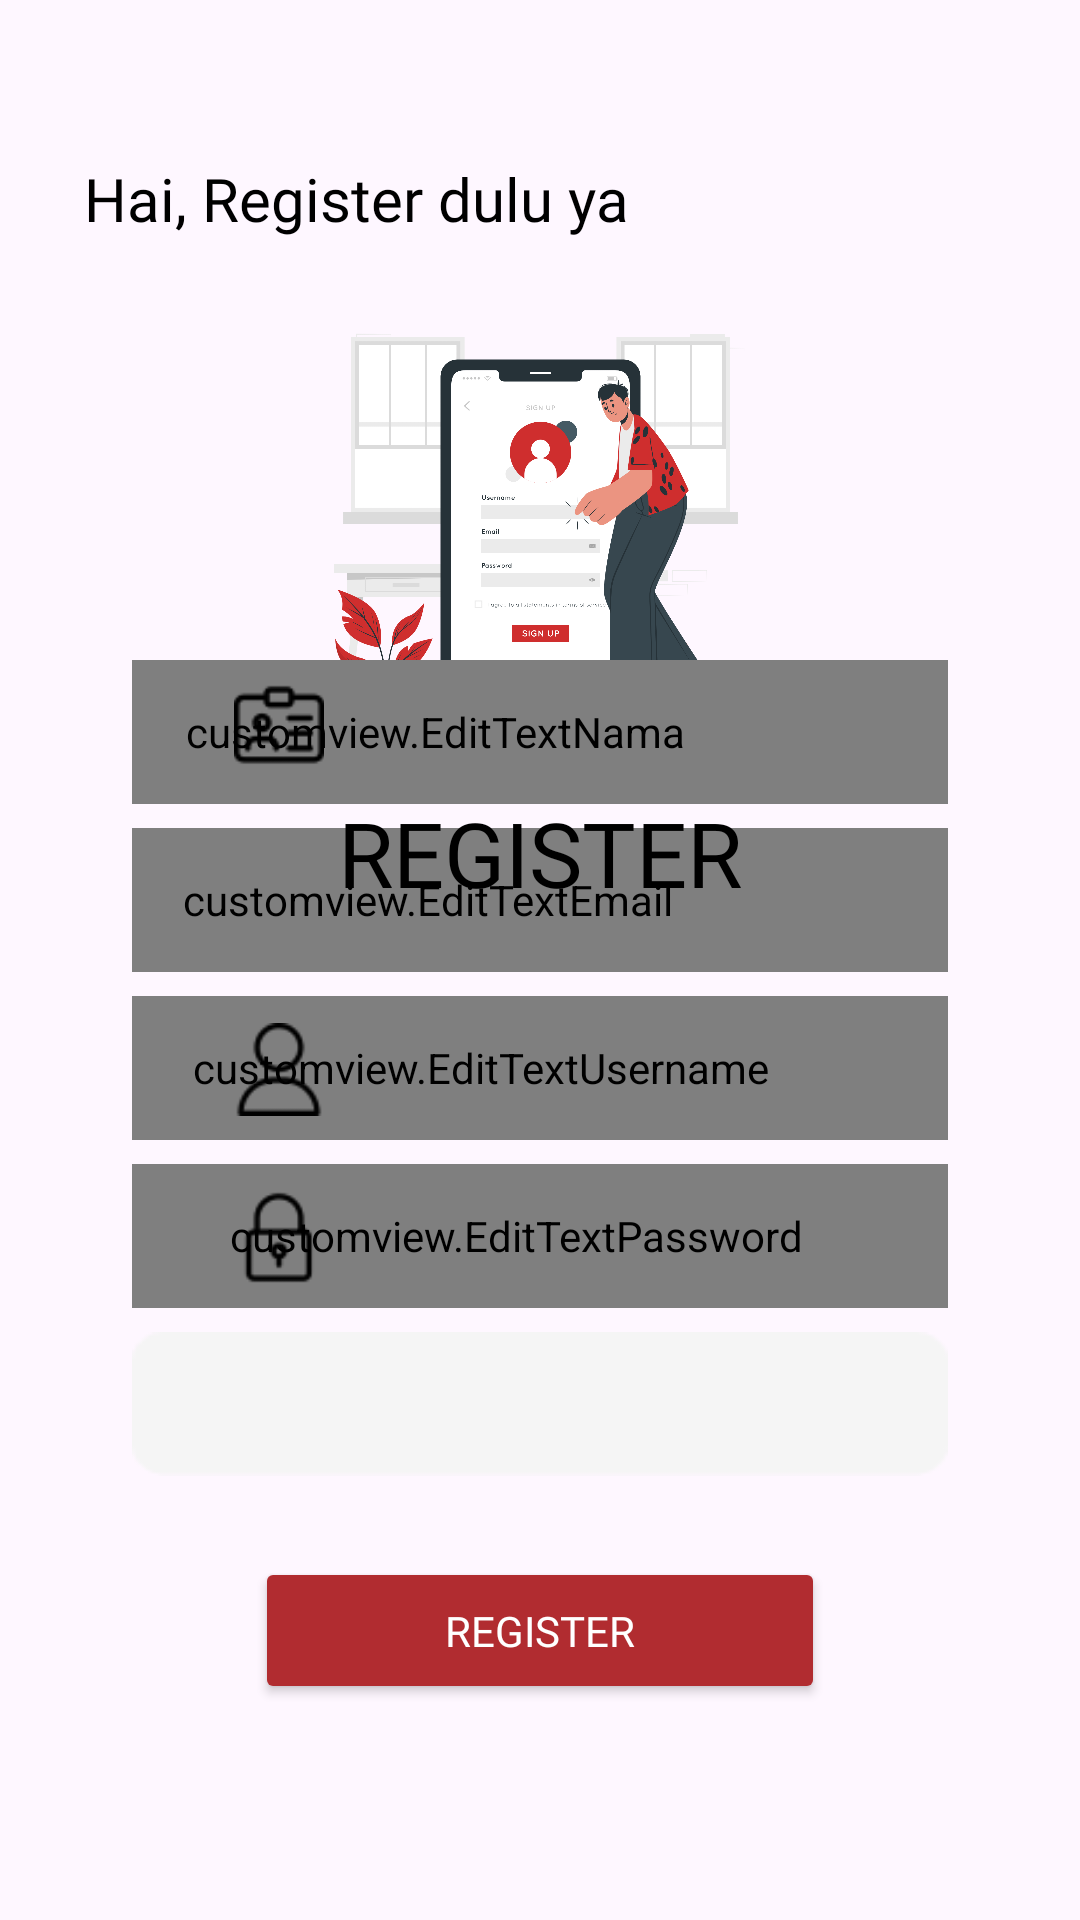

Where icons sit on this 1080px×1920px app screen, as (x1, y1, x2, y2):
passwrd: (232, 1193, 330, 1282)
